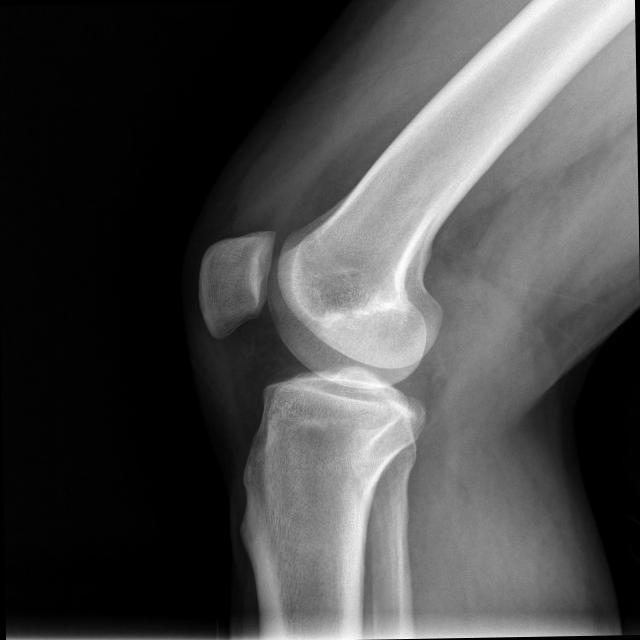Knee: (195, 220, 450, 475)
